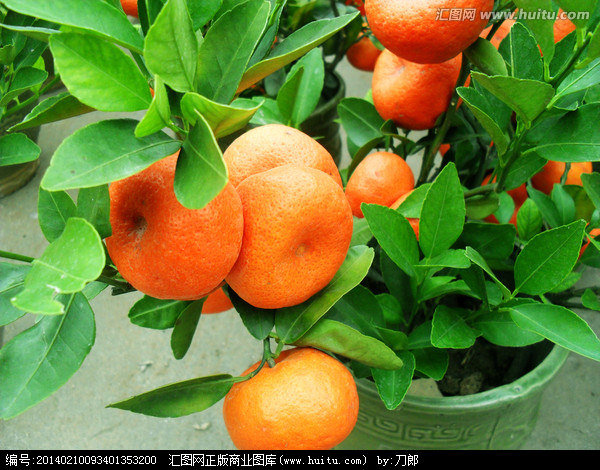orange: (97, 138, 243, 302), (223, 164, 349, 308), (222, 125, 343, 244), (222, 348, 358, 450), (371, 36, 473, 129), (363, 1, 493, 65), (347, 150, 413, 217)
